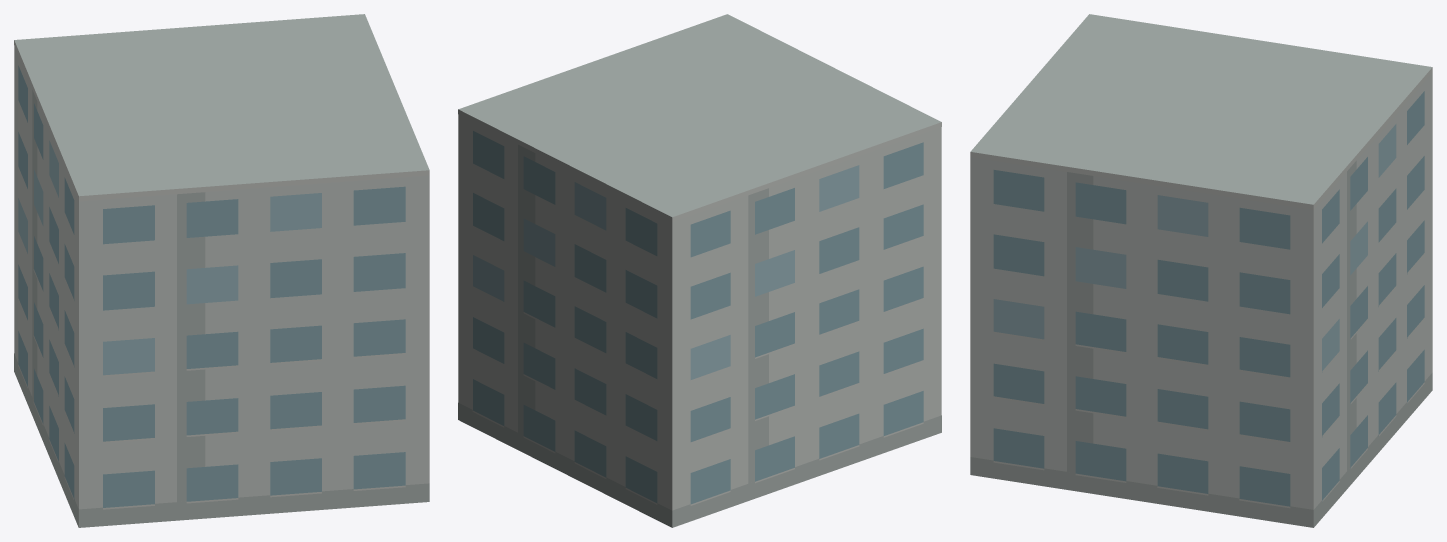
File: residential-719d1426-5315-4b65-adde-4e26ab671ead.glb
3 renders of one model, left to right at view 1: azimuth 30°, elevation 25°; view 2: azimuth 150°, elevation 25°; view 3: azimuth 270°, elevation 25°, orthographic. The views are drawn at different scales.
Parts seen in each view (by area): view 1: residential-719d1426-5315-4b65-adde-4e26ab671ead.tmp; view 2: residential-719d1426-5315-4b65-adde-4e26ab671ead.tmp; view 3: residential-719d1426-5315-4b65-adde-4e26ab671ead.tmp.
Boxes of the visible parts, left/top/right/bottom form: residential-719d1426-5315-4b65-adde-4e26ab671ead.tmp: left=14, top=14, right=429, bottom=527; residential-719d1426-5315-4b65-adde-4e26ab671ead.tmp: left=458, top=14, right=941, bottom=527; residential-719d1426-5315-4b65-adde-4e26ab671ead.tmp: left=970, top=14, right=1432, bottom=527.
Bounding box in the file's own units: 19.32 × 15.25 × 19.78.
